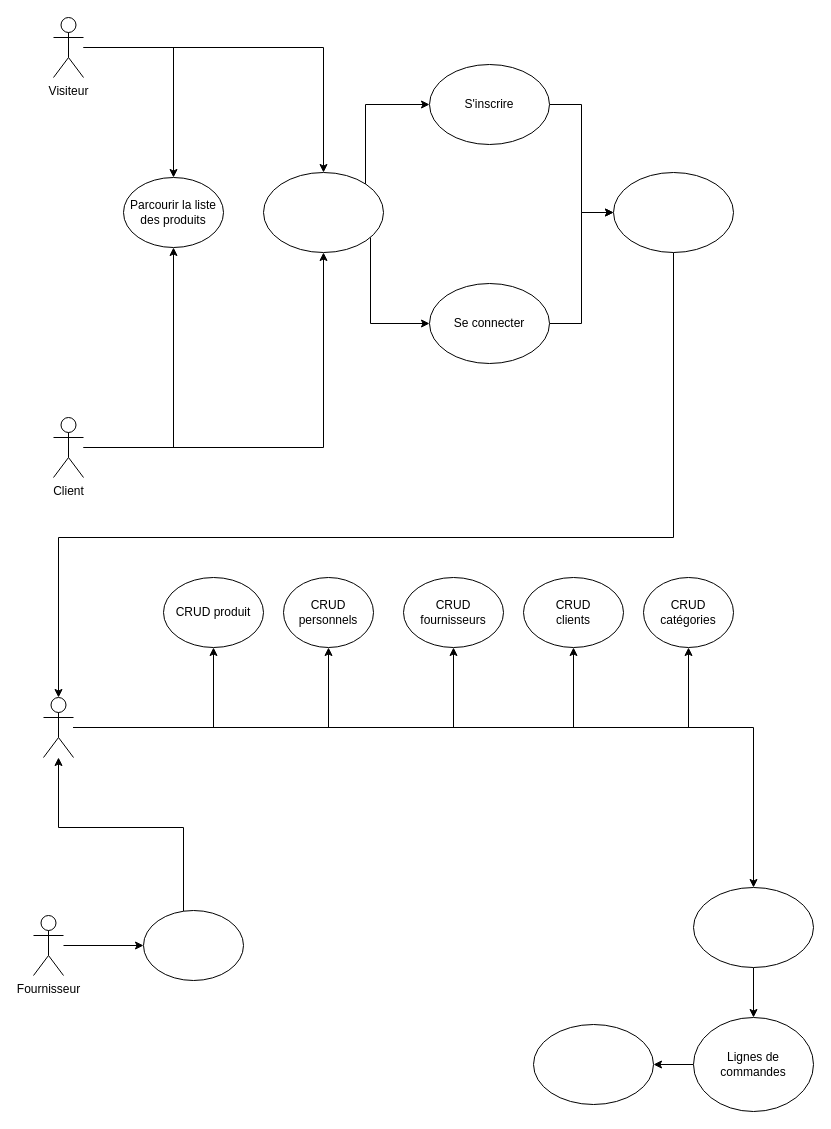
Some shapes in this 831 by 1129 pixel diagram are drawn without their labels. The centre of each missing label's shape, as x and y in pixels:
"Ajouter un article au panier" belongs at (323,212).
"Commander" belongs at (753,927).
"Livrer" belongs at (593,1064).
"Mise en relation" belongs at (673,212).
"Personnels" belongs at (58,727).
"Vendre" belongs at (193,945).
